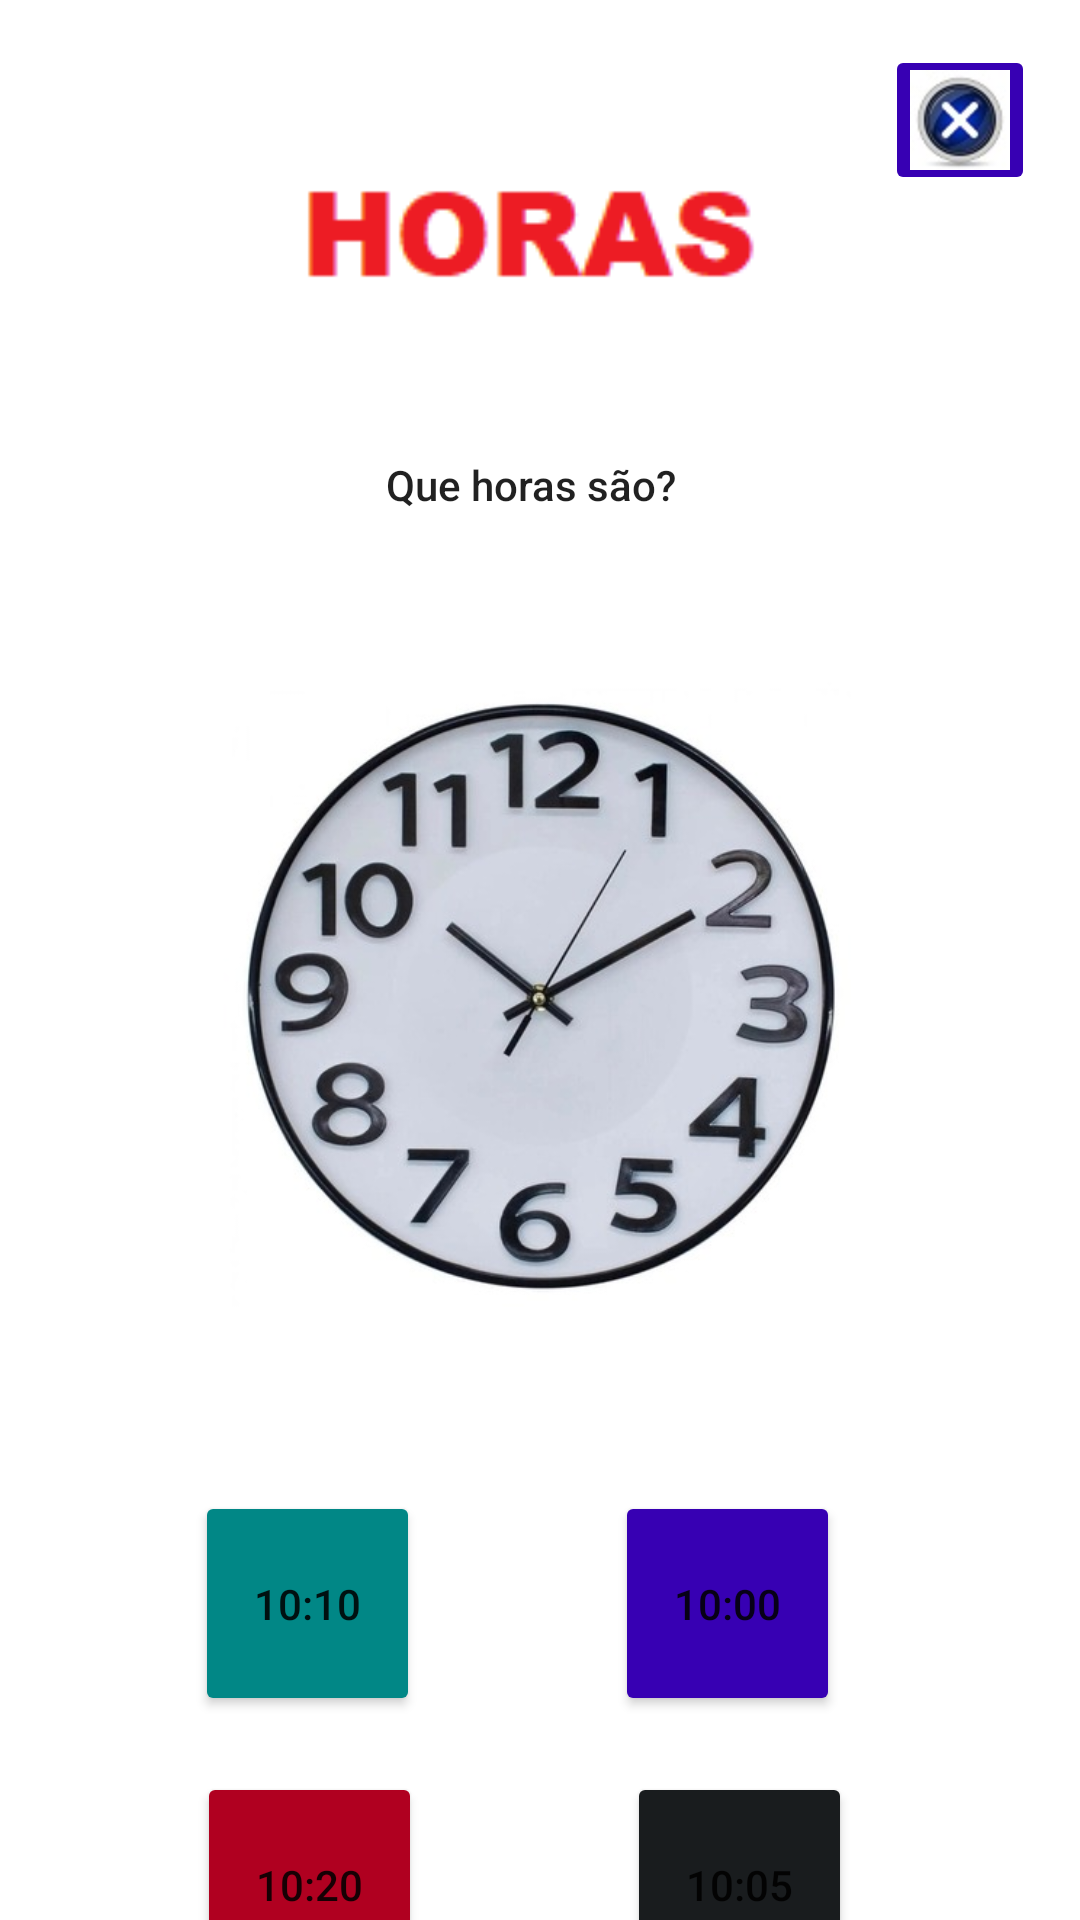

Icons on this 1080px×1920px Android screen, each with the point to tap as (x=x, y=y):
botaofechar: (x=960, y=120)
